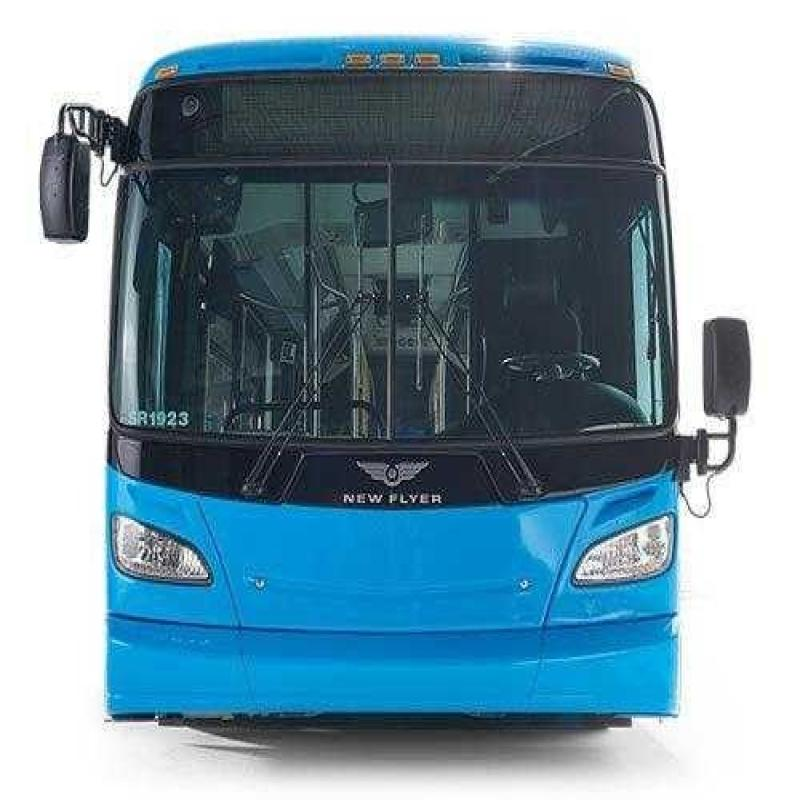bus: (31, 11, 758, 734)
